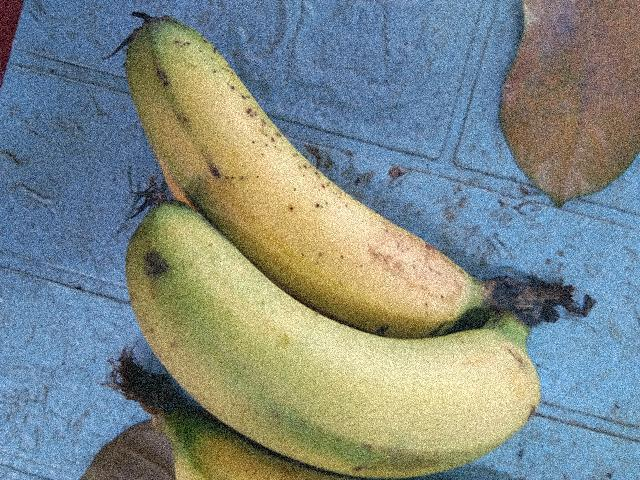freshripe: (82, 227, 553, 474)
ripe: (126, 20, 512, 326)
